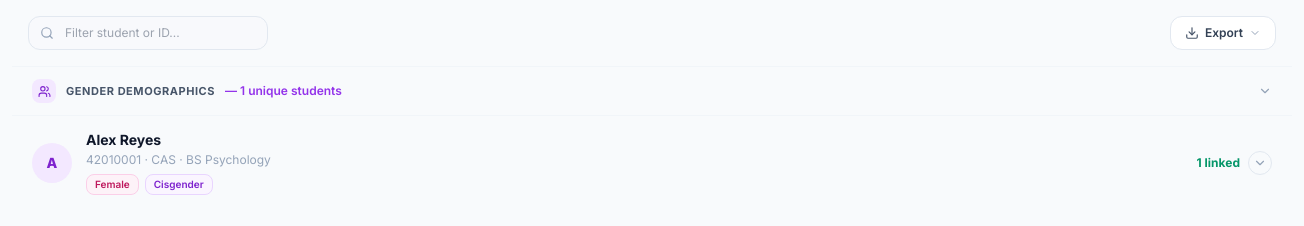
it: CounselingEvaluationsList › renders the Export button and opens format choices
What coordinates should you click on to do the following:
click the button "Export"
I would click on:
 (1223, 33)
Its box is [1170,16,1276,50].
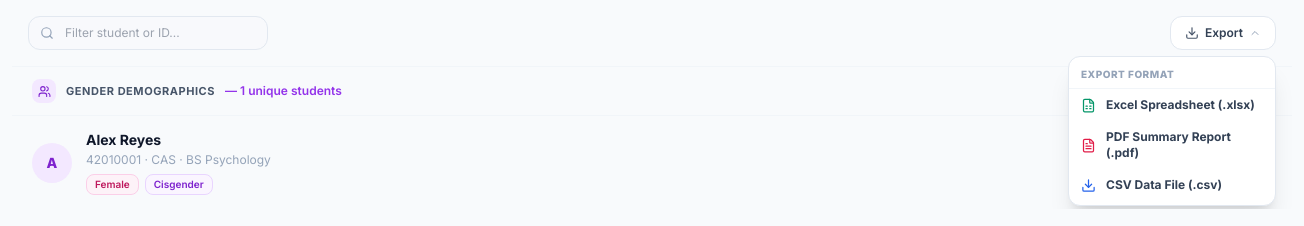
Check: the text "Excel Spreadsheet (.xlsx)" is shown, box [1106,97,1255,113]
Check: the text "PDF Summary Report (.pdf)" is shown, box [1106,129,1231,160]
Check: the text "CSV Data File (.csv)" is shown, box [1106,177,1222,193]
